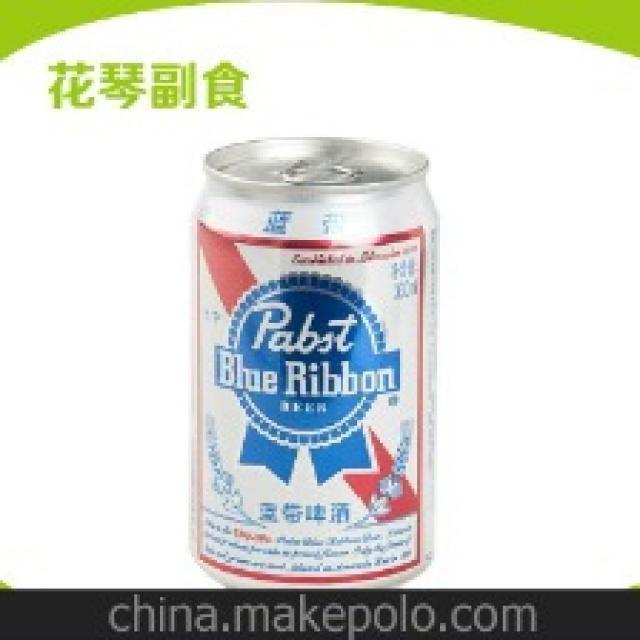metel: (187, 137, 434, 578)
